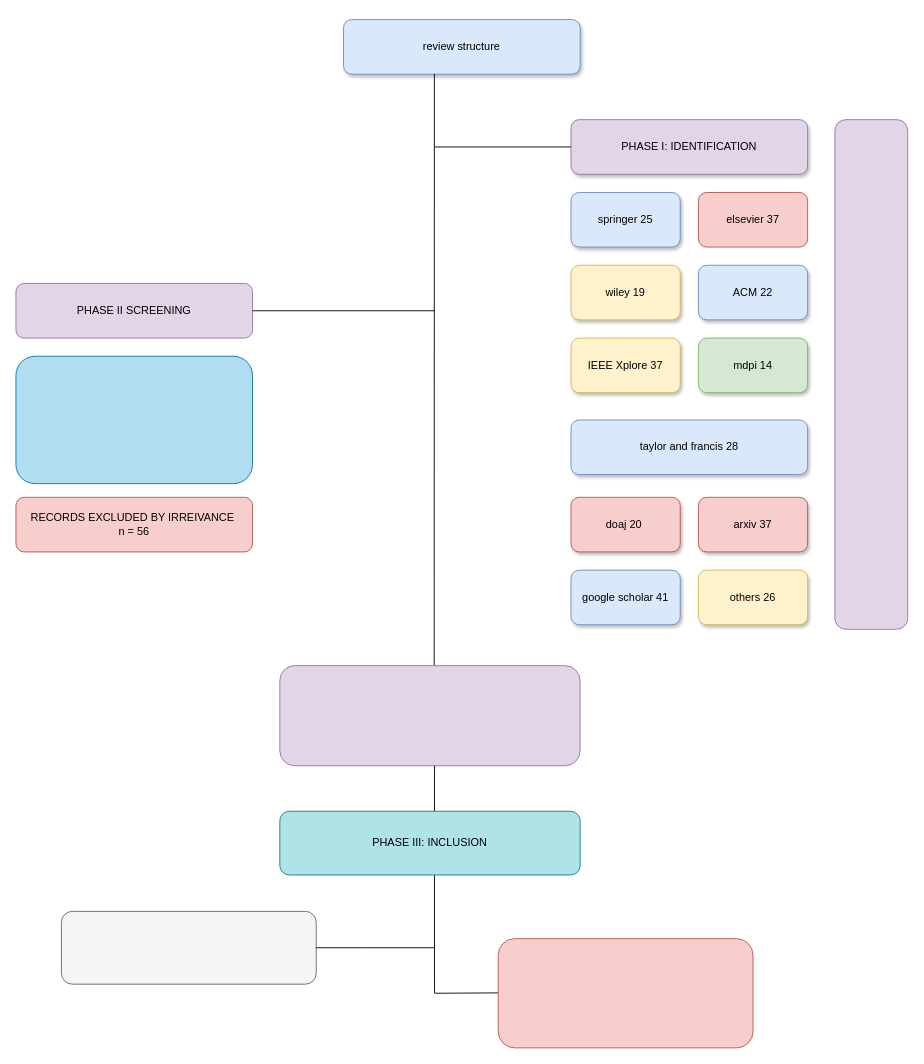
The diagram is 924 pixels wide and 1064 high, and some of its shapes have lost their labels. The shapes that lost their labels are listed below. From the top down, each one's centre as x and y in pixels, then its label:
At pixel 871 374: "TOTAL records identified n = 306".
At pixel 134 419: "screening process : reviewing abstracts and keywords".
At pixel 429 715: "POTENTIAL ARTICLES FOR ANALYSIS N = 250".
At pixel 188 947: "reports excluded n = 70".
At pixel 625 993: "FINAL ARTICLES INCLUDED FOR REVIEW n = 180".
